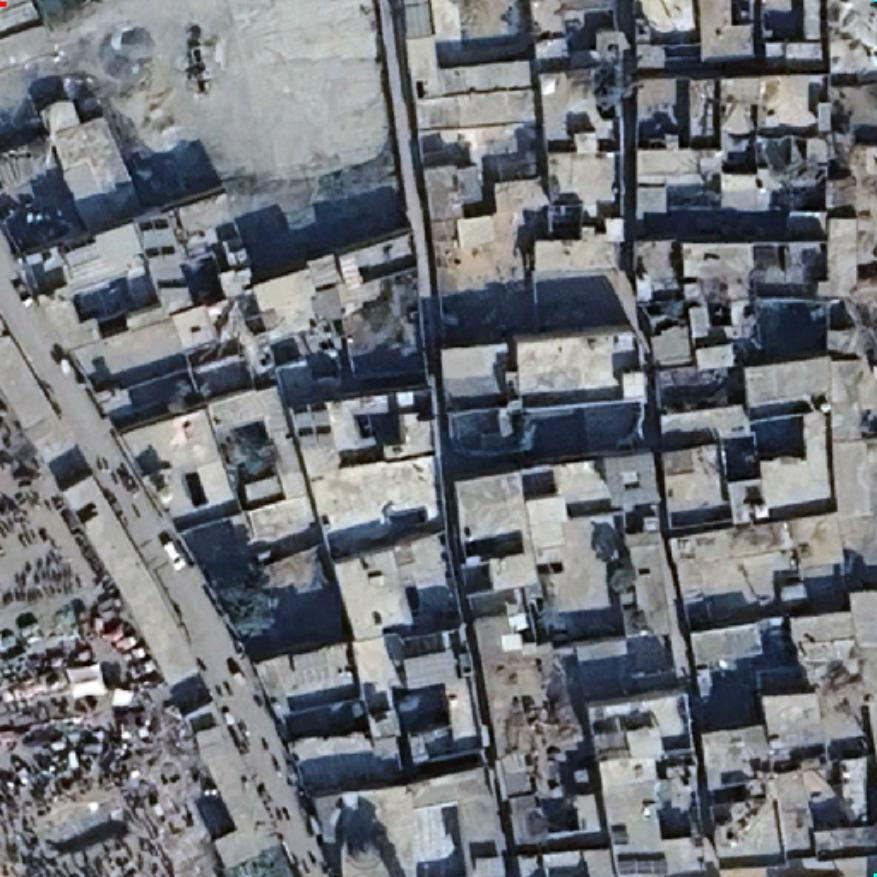Solarpanel: (617, 856, 667, 876)
